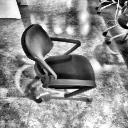chair_success: (18, 24, 102, 106)
